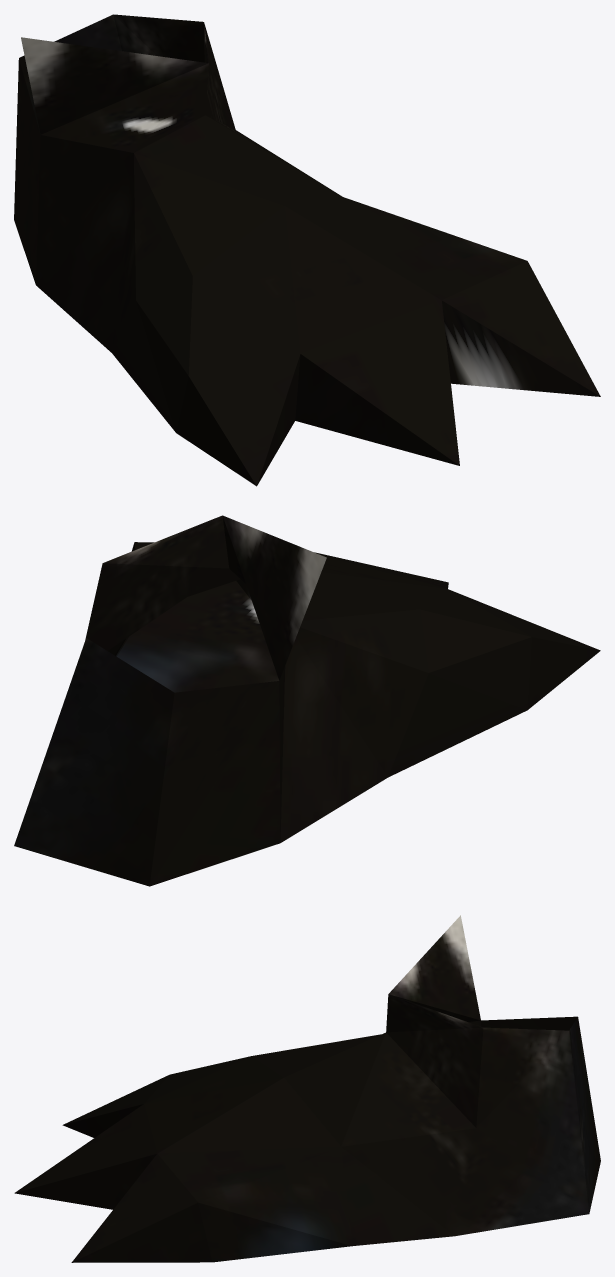
Rendered from Pie_izq.obj.
The picture shows the model from 3 angles, top to bottom: view 1: azimuth 30°, elevation 25°; view 2: azimuth 150°, elevation 25°; view 3: azimuth 270°, elevation 25°; orthographic projection. The views are drawn at different scales.
Parts seen in each view (by area): view 1: polySurface5; view 2: polySurface5; view 3: polySurface5.
Boxes of the visible parts, box(x1,y1,x2,y2) form: polySurface5: box(14, 14, 600, 486); polySurface5: box(14, 515, 600, 886); polySurface5: box(14, 915, 600, 1262).
Bounding box in the file's own units: 0.2754 × 0.1938 × 0.4809.
Materials: 1 (1 with a texture image).
